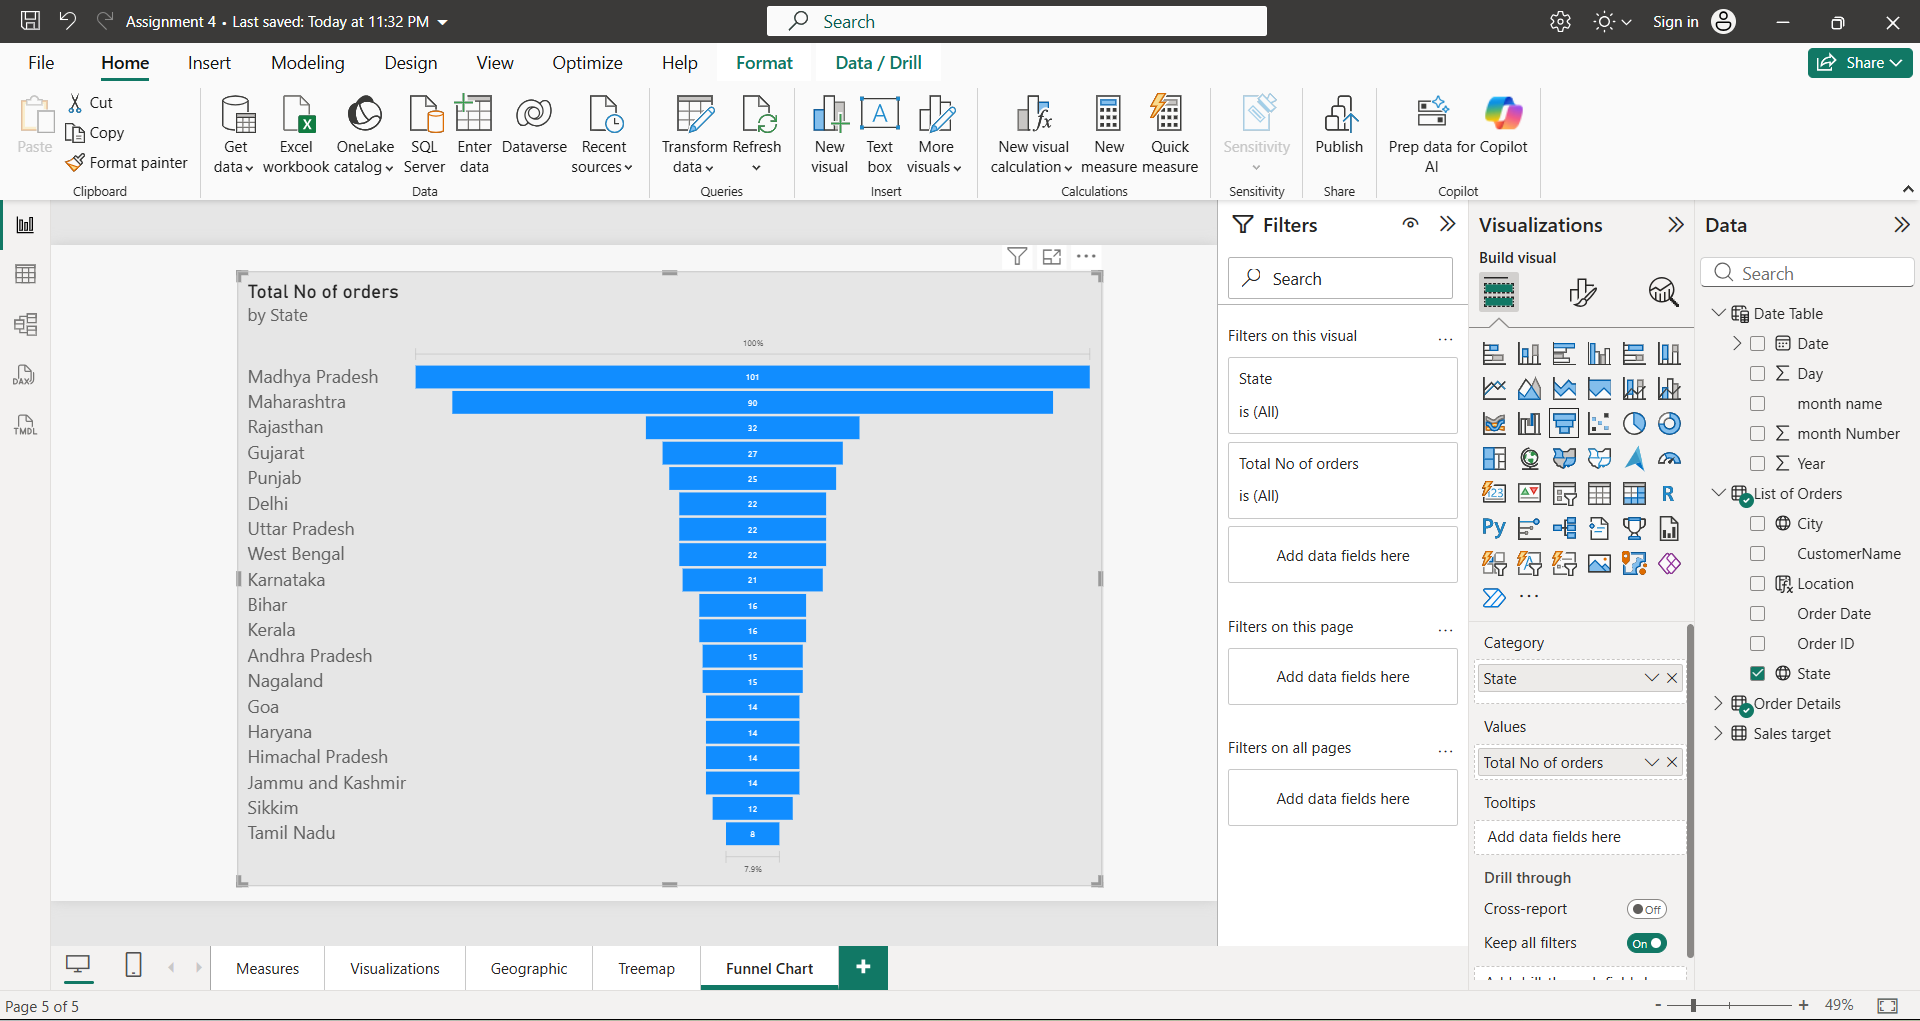

The dashboard page shown, as its layout file describes it:
{"tool":"powerbi","page":{"name":"Funnel Chart","canvas":[1920,1080],"ordinal":4},"visuals":[{"type":"funnel","fields":{"Category":["List of Orders.State"],"Y":["Order Details.Total No of orders"]},"box":[306,44,1426,1012],"z":0}]}

Visuals, with their boxes on the page's 1920x1080 design canvas (x1, y1, x2, y2). These are canvas units, not pixel positions in the 1920x1021 screenshot, which may show the page scaled, cropped or inside an application window:
funnel - List of Orders.State x Order Details.Total No of orders: (left=306, top=44, right=1732, bottom=1056)
